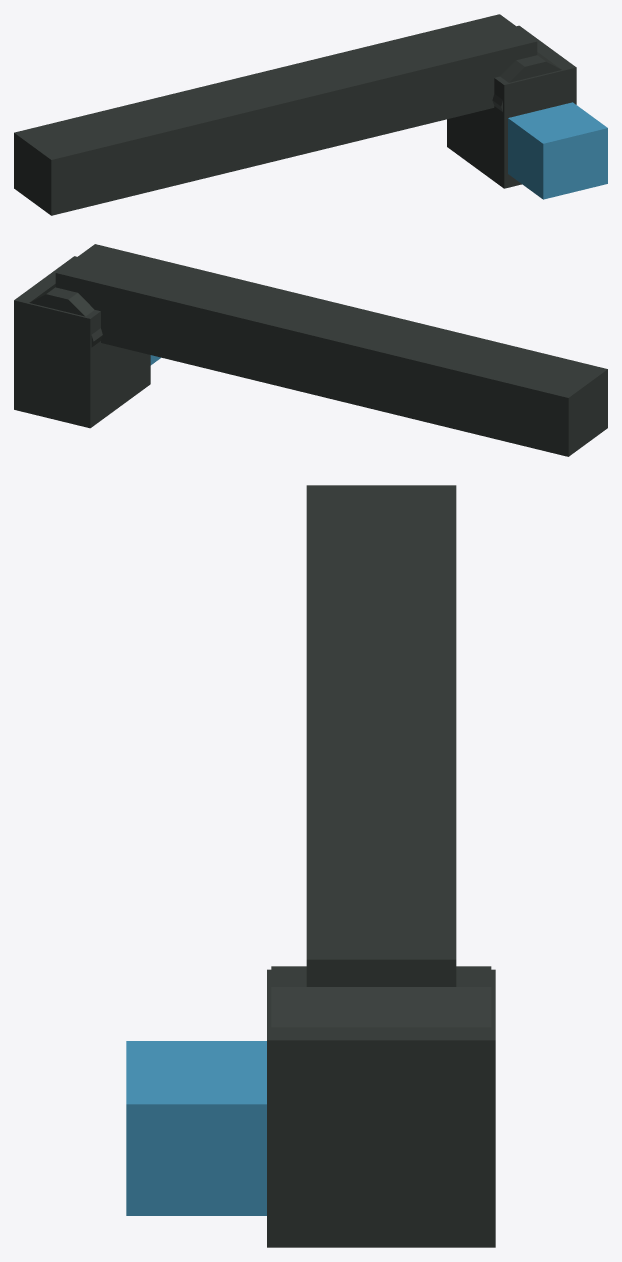
File: Bastion_RepairBay_ServiceArmLeft.obj
3 renders of one model, top to bottom at view 1: azimuth 30°, elevation 25°; view 2: azimuth 150°, elevation 25°; view 3: azimuth 270°, elevation 25°, orthographic. The views are drawn at different scales.
Parts seen in each view (by area): view 1: Bastion_RepairBay_ServiceArmLeft; view 2: Bastion_RepairBay_ServiceArmLeft; view 3: Bastion_RepairBay_ServiceArmLeft.
Part boxes in pixels (x1,y1,x2,y2): Bastion_RepairBay_ServiceArmLeft: (14, 14, 607, 215); Bastion_RepairBay_ServiceArmLeft: (14, 244, 607, 456); Bastion_RepairBay_ServiceArmLeft: (126, 485, 495, 1247).
Size of the model in its own units: 2.7 by 0.65 by 0.84.
1 material, 1 textured.
